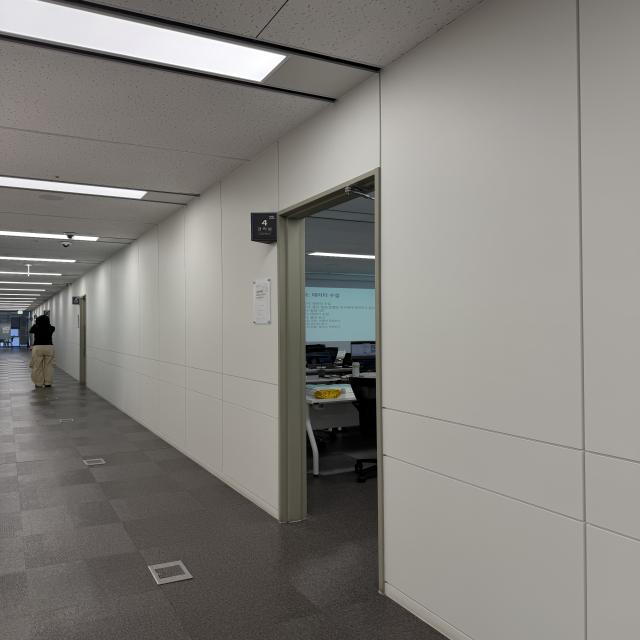room4: (251, 212, 277, 243)
